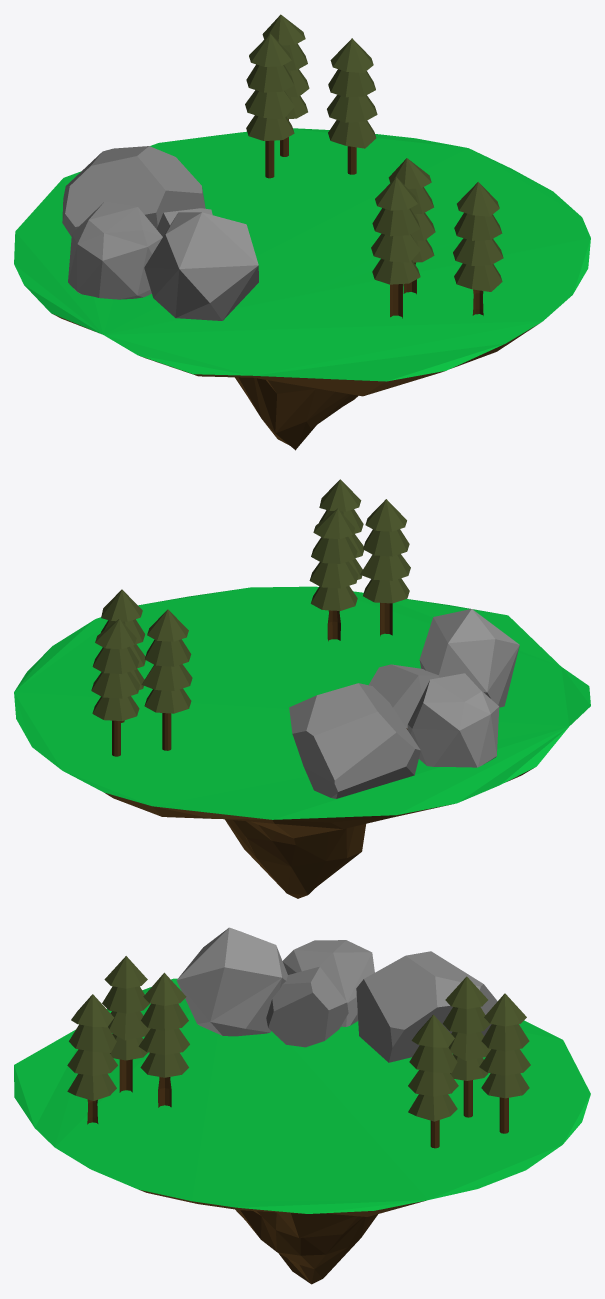
The model's file is Island.fbx.
The picture shows the model from 3 angles, top to bottom: view 1: azimuth 30°, elevation 25°; view 2: azimuth 150°, elevation 25°; view 3: azimuth 270°, elevation 25°; orthographic projection. The views are drawn at different scales.
Parts seen in each view (by area): view 1: Cylinder.002, Cylinder.001, Cylinder, Cylinder.003, Icosphere.001, Icosphere, Circle; view 2: Cylinder.002, Cylinder.001, Cylinder, Cylinder.003, Icosphere, Icosphere.001, Circle; view 3: Cylinder.002, Cylinder.001, Cylinder, Cylinder.003, Icosphere.001, Icosphere, Circle.
Boxes of the visible parts, x1,y1,x2,y2 form: Cylinder.002: (14, 128, 590, 381); Cylinder.001: (53, 146, 539, 450); Cylinder: (371, 158, 503, 291); Cylinder.003: (245, 14, 377, 148); Icosphere.001: (144, 212, 258, 320); Icosphere: (68, 201, 162, 299); Circle: (265, 119, 356, 178); Cylinder.002: (14, 586, 590, 819); Cylinder.001: (104, 602, 533, 898); Cylinder: (309, 479, 410, 610); Cylinder.003: (91, 589, 192, 720); Icosphere: (407, 673, 499, 767); Icosphere.001: (419, 609, 519, 707); Circle: (112, 713, 171, 756); Cylinder.002: (14, 978, 590, 1213); Cylinder.001: (87, 951, 497, 1284); Cylinder: (67, 956, 189, 1100); Cylinder.003: (408, 976, 530, 1121); Icosphere.001: (176, 927, 287, 1036); Icosphere: (282, 940, 374, 1026); Circle: (430, 1080, 508, 1148).
Bounding box in the file's own units: 21.32 × 14 × 21.93.
